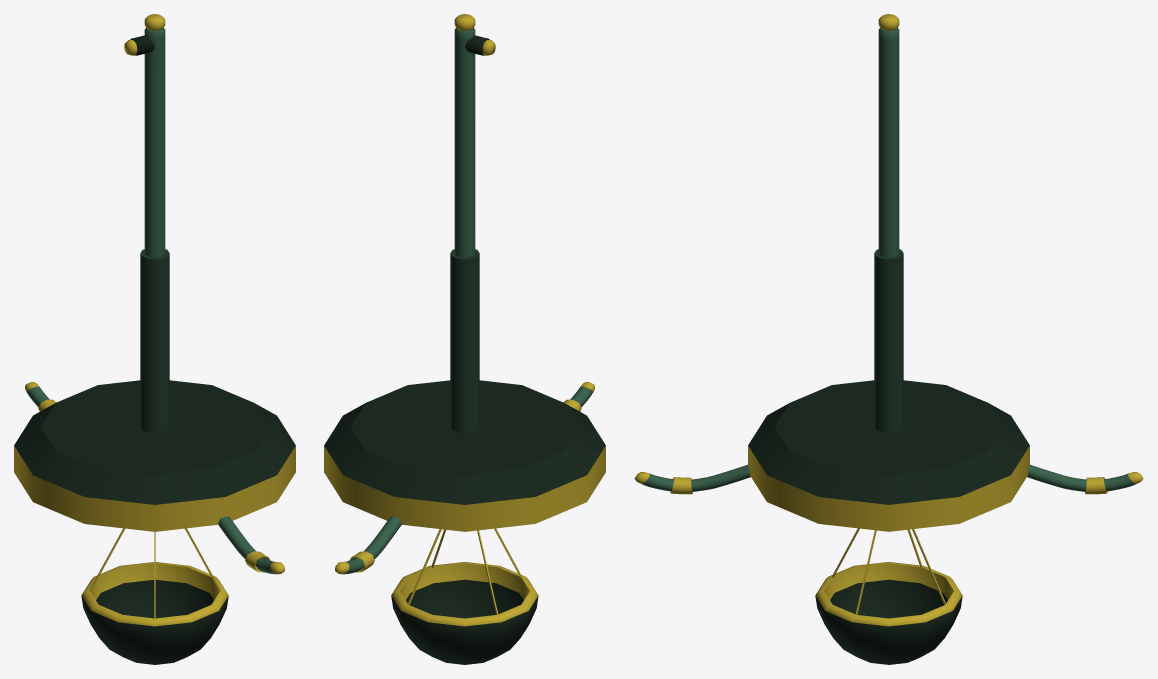
File: Scale.fbx
The picture shows the model from 3 angles, left to right: view 1: azimuth 30°, elevation 25°; view 2: azimuth 150°, elevation 25°; view 3: azimuth 270°, elevation 25°; orthographic projection.
Parts seen in each view (by area): view 1: ScaleBase, ScaleCup, ScaleBar; view 2: ScaleBase, ScaleCup, ScaleBar; view 3: ScaleBase, ScaleCup, ScaleBar.
Boxes of the visible parts, x1,y1,x2,y2 form: ScaleBase: (14,14,295,531); ScaleCup: (81,528,228,664); ScaleBar: (25,382,284,574); ScaleBase: (324,14,605,531); ScaleCup: (391,528,538,664); ScaleBar: (335,382,594,574); ScaleBase: (748,14,1029,531); ScaleCup: (815,528,962,664); ScaleBar: (634,464,1143,494).
Size of the model in its own units: 200 by 502 by 361.
